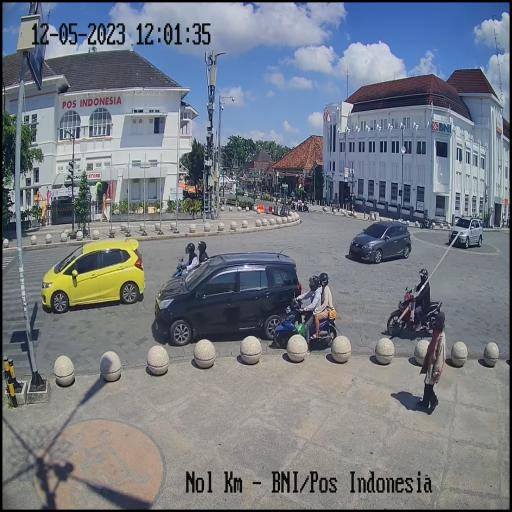mobil: (153, 251, 305, 348), (39, 232, 144, 312), (353, 214, 412, 268), (447, 210, 483, 250)
motor: (272, 290, 336, 358), (388, 279, 444, 348)
